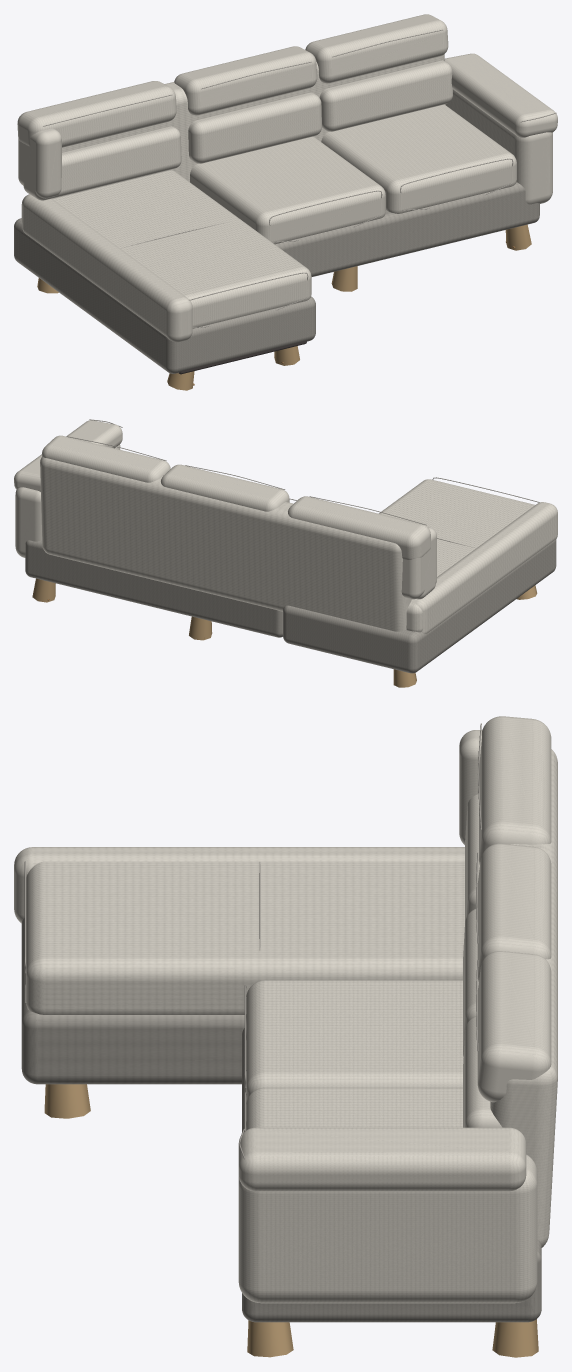
The model's file is Esquina-concept.glb.
3 renders of one model, top to bottom at view 1: azimuth 30°, elevation 25°; view 2: azimuth 150°, elevation 25°; view 3: azimuth 270°, elevation 25°, orthographic. The views are drawn at different scales.
Parts seen in each view (by area): view 1: left long chaise cushion, right seat cushion 1, right seat cushion 2, left chaise frame, right frame, left low chaise rail, left chaise raised headrest, right raised headrest 1, right raised headrest 2, right lower back 1, right lower back 2, left chaise lower back cushion (+6 smaller); view 2: full rear back frame, left chaise frame, right frame, left long chaise cushion, left low chaise rail, left chaise raised headrest, right raised headrest 1, right raised headrest 2, right arm cap, right full arm, chaise rear shoulder, splayed oak leg (×3); view 3: left long chaise cushion, right full arm, right seat cushion 1, right arm cap, left chaise frame, right raised headrest 2, left chaise raised headrest, right seat cushion 2, right raised headrest 1, full rear back frame, left low chaise rail, right frame (+5 smaller).
Boxes of the visible parts, <box> form: left long chaise cushion: <box>21,170,311,328</box>; right seat cushion 1: <box>190,136,385,244</box>; right seat cushion 2: <box>321,104,516,213</box>; left chaise frame: <box>14,218,315,373</box>; right frame: <box>275,182,539,276</box>; left low chaise rail: <box>22,194,192,342</box>; left chaise raised headrest: <box>17,81,176,147</box>; right raised headrest 1: <box>174,46,317,115</box>; right raised headrest 2: <box>305,14,448,83</box>; right lower back 1: <box>188,92,321,163</box>; right lower back 2: <box>319,60,452,131</box>; left chaise lower back cushion: <box>23,126,181,200</box>; full rear back frame: <box>40,457,411,631</box>; left chaise frame: <box>283,539,556,673</box>; right frame: <box>25,540,282,637</box>; left long chaise cushion: <box>379,479,534,632</box>; left low chaise rail: <box>411,502,557,633</box>; left chaise raised headrest: <box>288,496,430,559</box>; right raised headrest 1: <box>161,464,289,511</box>; right raised headrest 2: <box>42,435,170,482</box>; right arm cap: <box>14,420,122,491</box>; right full arm: <box>15,444,120,557</box>; chaise rear shoulder: <box>401,527,436,599</box>; splayed oak leg (×3): <box>32,578,416,687</box>; left long chaise cushion: <box>26,861,464,1014</box>; right full arm: <box>238,1154,537,1303</box>; right seat cushion 1: <box>246,980,463,1104</box>; right arm cap: <box>238,1127,526,1191</box>; left chaise frame: <box>21,918,244,1084</box>; right raised headrest 2: <box>477,951,551,1102</box>; left chaise raised headrest: <box>479,716,551,864</box>; right seat cushion 2: <box>246,1087,462,1130</box>; right raised headrest 1: <box>477,843,551,982</box>; full rear back frame: <box>490,749,557,1247</box>; left low chaise rail: <box>14,847,464,923</box>; right frame: <box>242,1028,541,1322</box>.
Size of the model in its own units: 2.6 by 0.9707 by 1.6.
6 materials, 2 textured.
